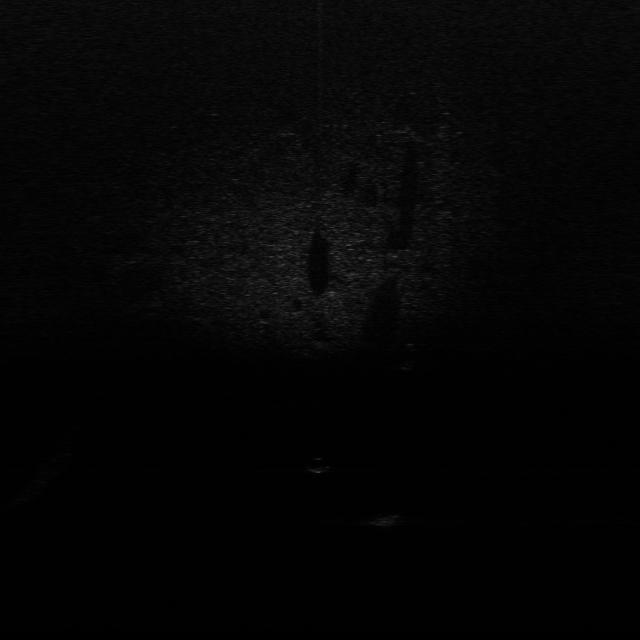ball: (302, 454, 336, 474)
square cage: (363, 507, 411, 531)
tyre: (393, 339, 426, 374)
